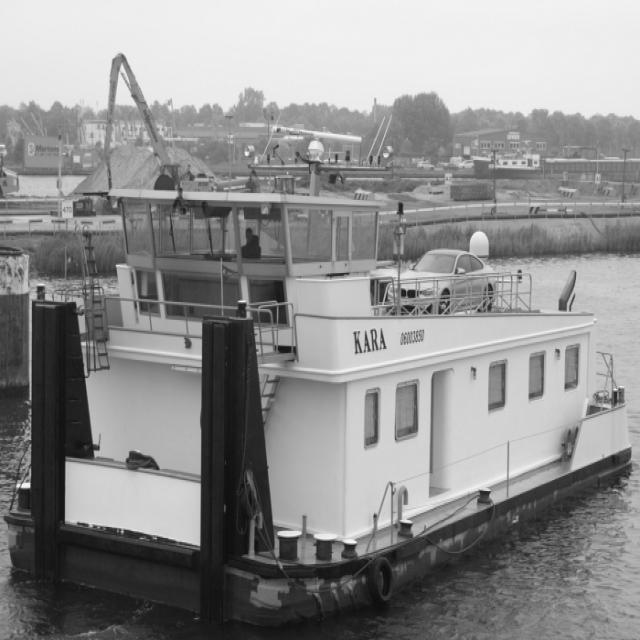tugboat: (1, 106, 636, 640)
